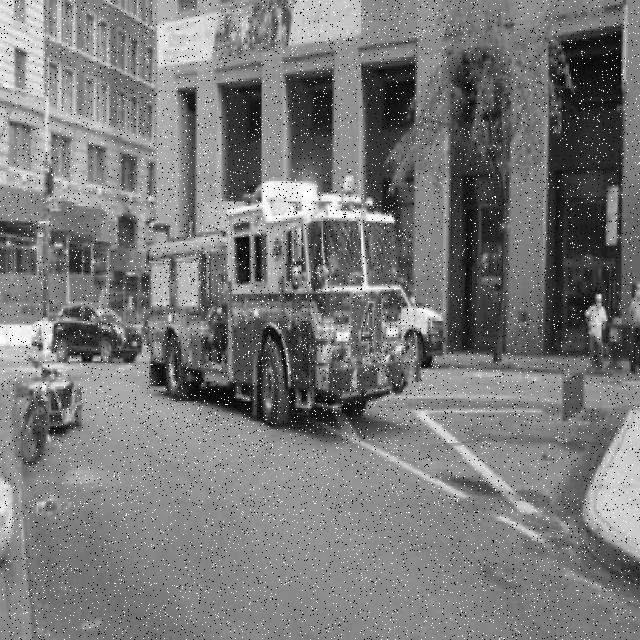Fire Truck: (144, 182, 419, 427)
